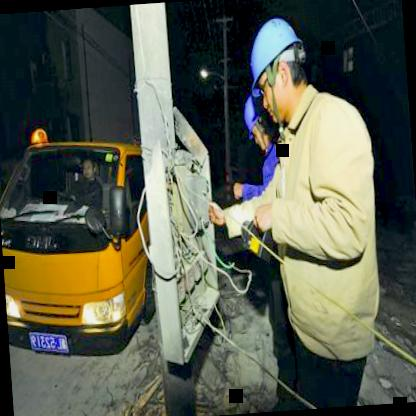head: (80, 154, 99, 181)
helmet: (244, 6, 316, 128), (242, 86, 276, 153)
